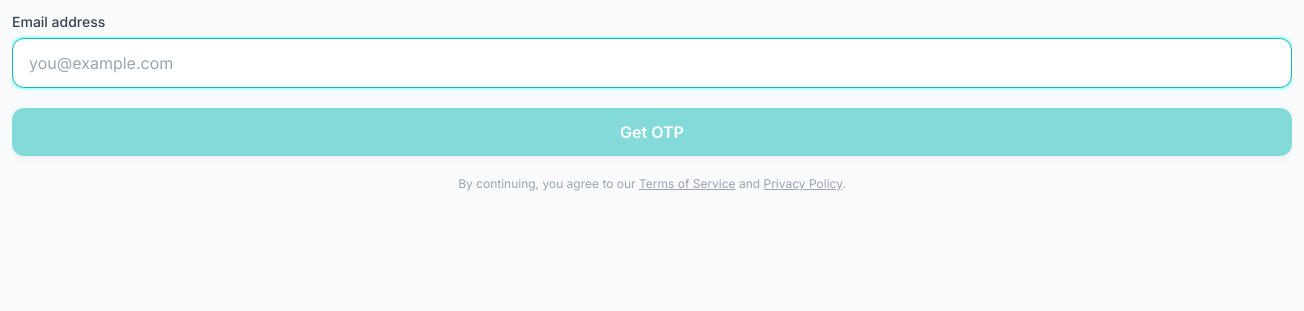
Test case: EmailVerificationFlow › surfaces a duplicate-email (409) error through the otp form error display
Type "new@example.com" into the field labelled "Email address" at {"x": 652, "y": 63}, box [12,38,1292,88]
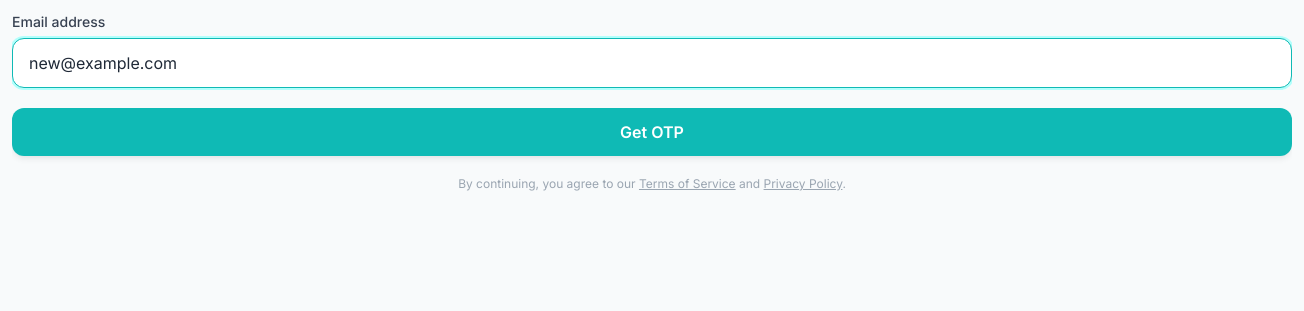
Click the button "Get OTP" at {"x": 652, "y": 132}, box [12,108,1292,156]
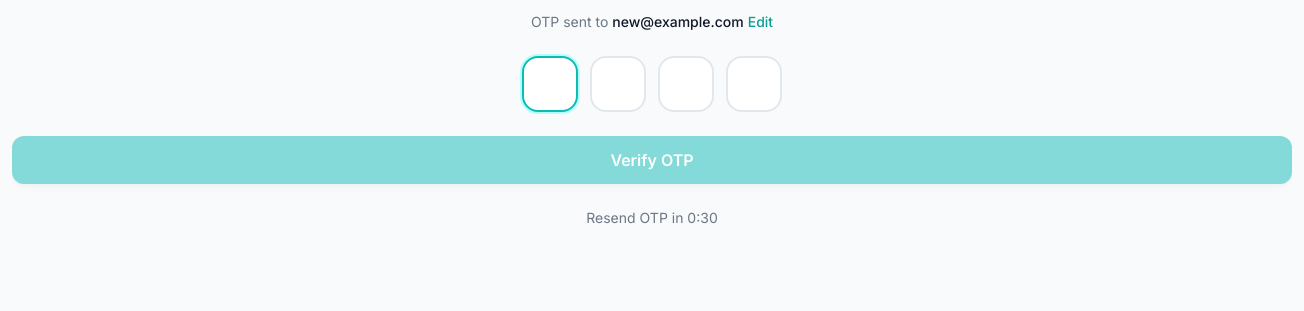
Expected: the text "OTP sent to new@example.com Edit" is shown, [531,12,773,32]
Type "1" into the field named "Digit 1" at {"x": 550, "y": 84}, box [522,56,578,112]
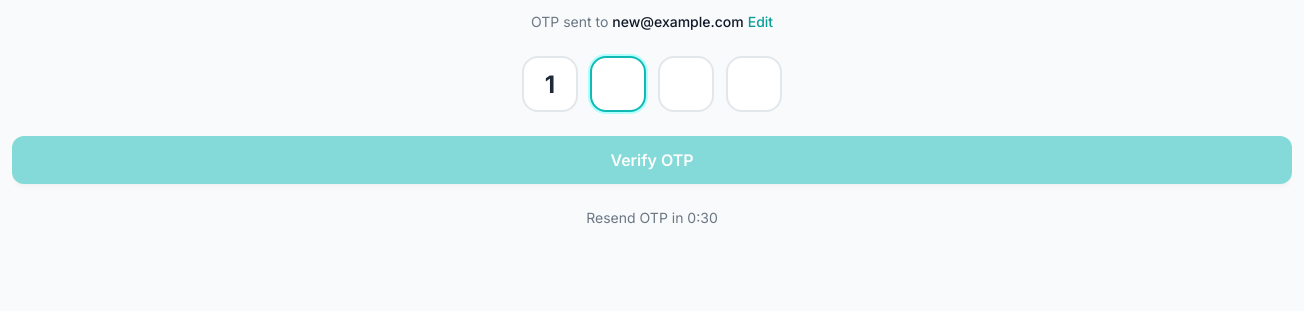
Type "2" into the field named "Digit 2" at {"x": 618, "y": 84}, box [590,56,646,112]
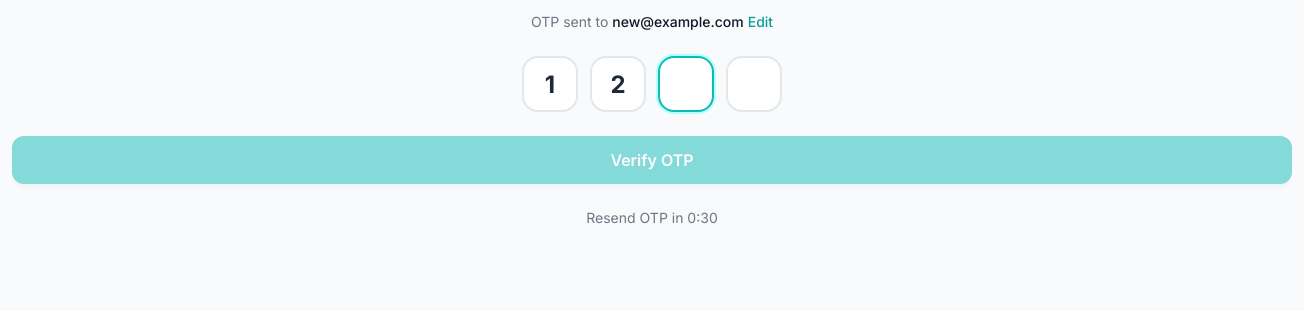
Type "3" into the field named "Digit 3" at {"x": 686, "y": 84}, box [658,56,714,112]
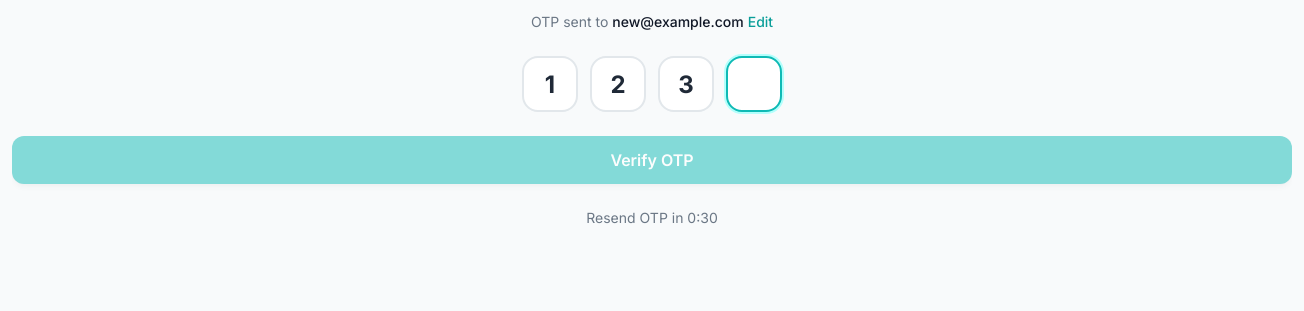
Type "4" into the field named "Digit 4" at {"x": 754, "y": 84}, box [726,56,782,112]
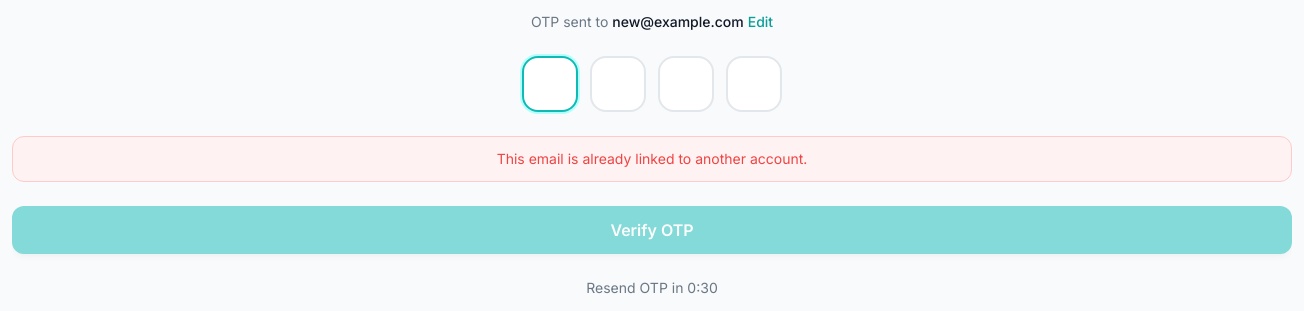
Expected: the text "This email is already linked to another account." is shown, [12,136,1292,182]
